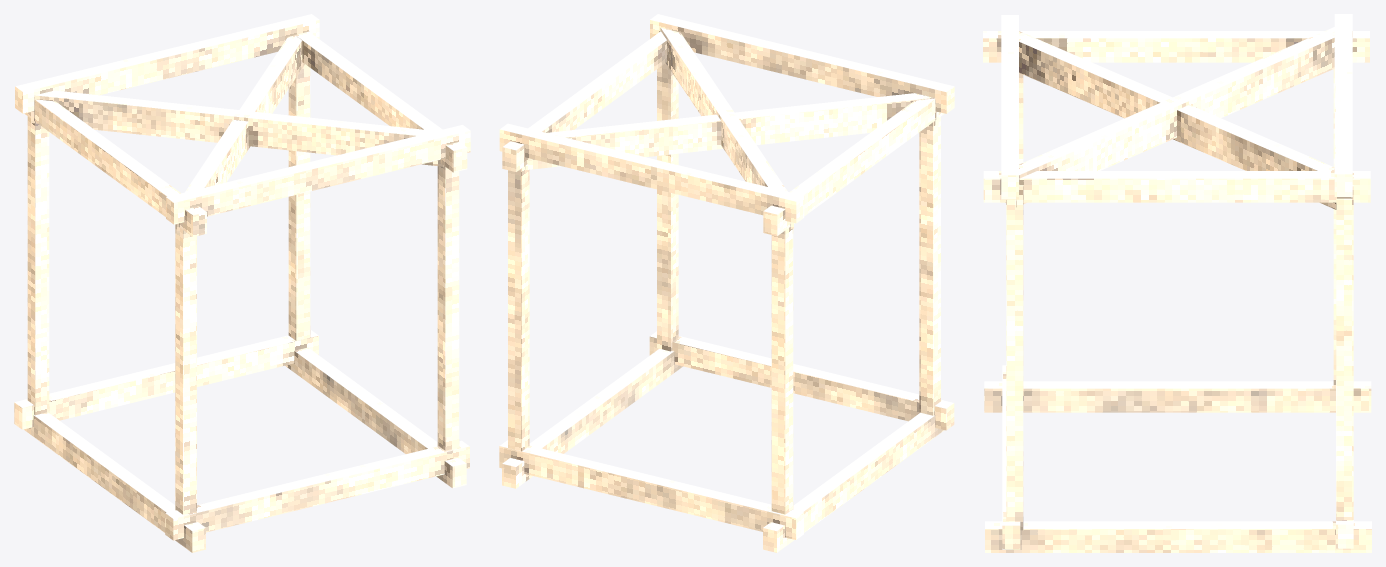
File: WoodenFrame.glb
3 views of the same model, side by side, from view 1: azimuth 30°, elevation 25°; view 2: azimuth 150°, elevation 25°; view 3: azimuth 270°, elevation 25° (orthographic). The views are drawn at different scales.
Parts seen in each view (by area): view 1: Wooden_Frame; view 2: Wooden_Frame; view 3: Wooden_Frame.
Boxes of the visible parts, left/top/right/bottom form: Wooden_Frame: left=14, top=14, right=470, bottom=552; Wooden_Frame: left=499, top=14, right=954, bottom=552; Wooden_Frame: left=983, top=14, right=1371, bottom=552.
Bounding box in the file's own units: 3.86 × 4.31 × 3.94.
